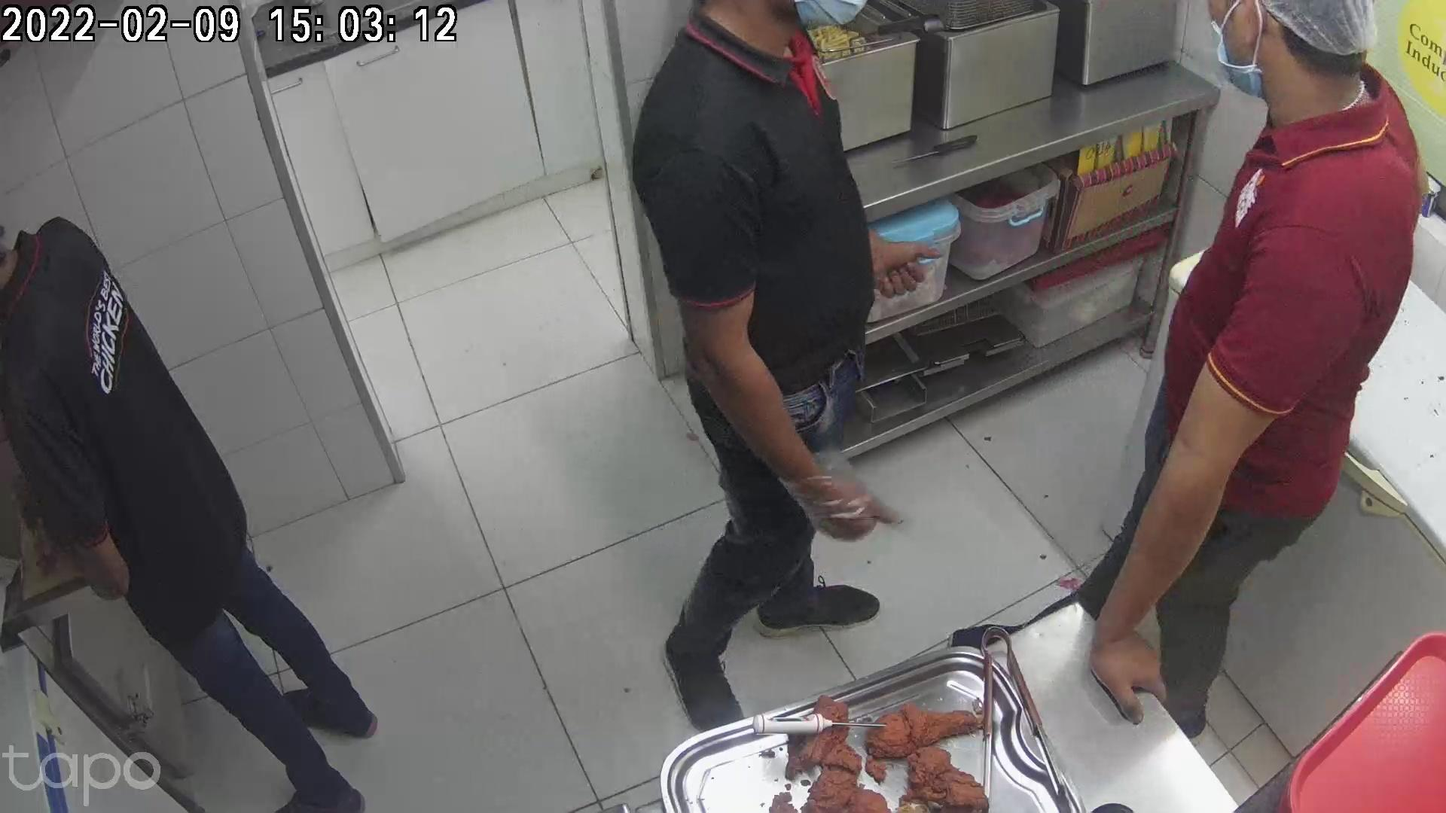gloves: (351, 355, 413, 467)
